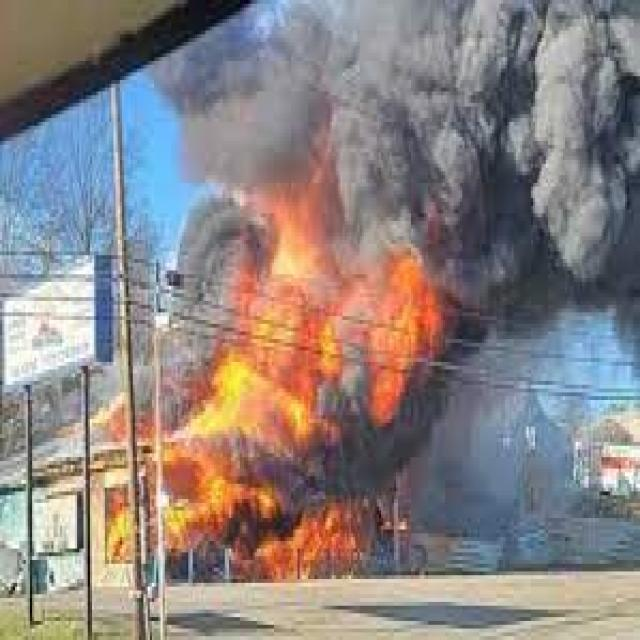fire: (163, 252, 443, 594), (107, 492, 131, 572)
smoke: (154, 4, 638, 305)
